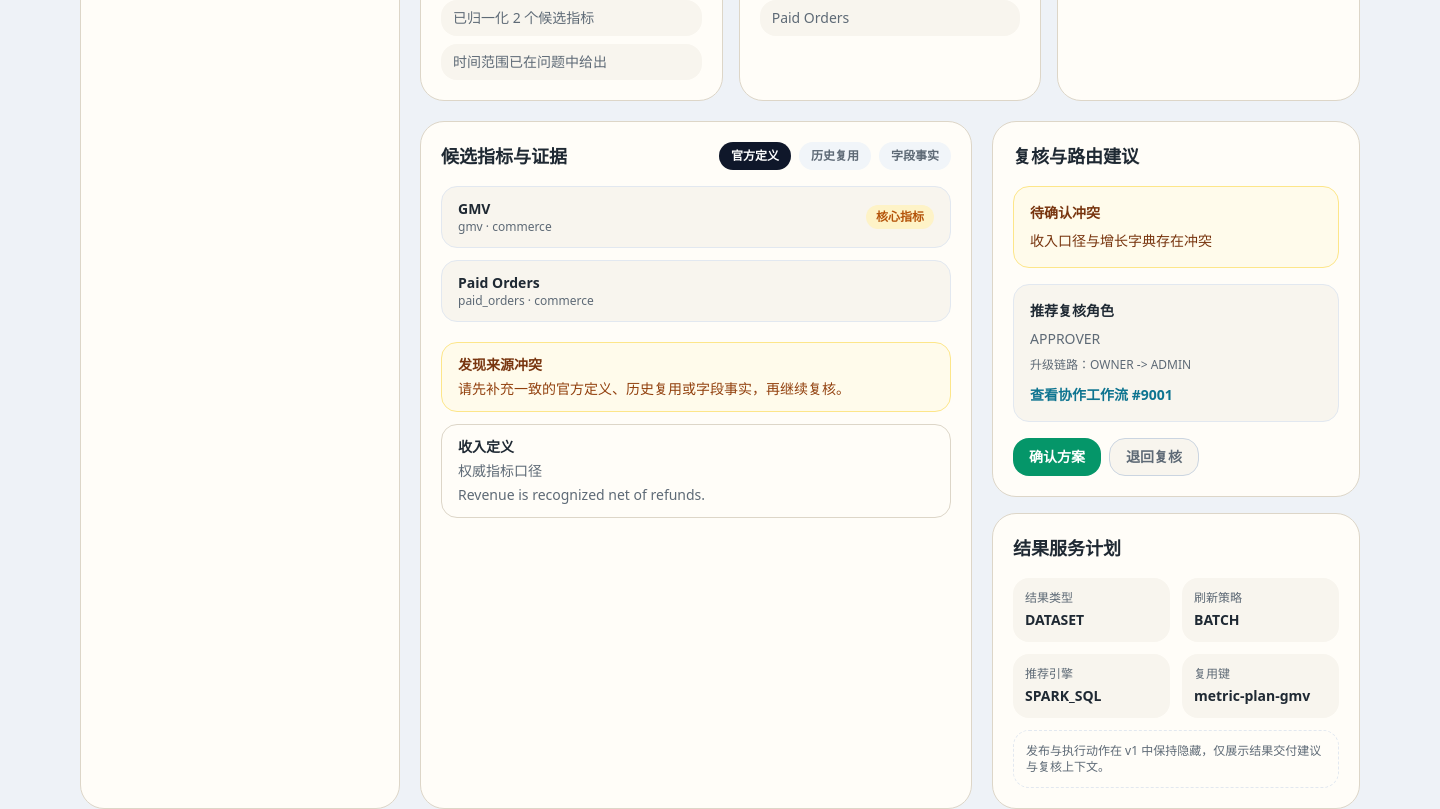
Test: MetricAnalysisPlanner page › uses GenesisApi.reviewAnalysisPlan and updates page state
The image size is (1440, 809).
(page scrolled)
Click the button "确认方案" at [1057, 457], box [1013,438,1101,476]
(page scrolled)
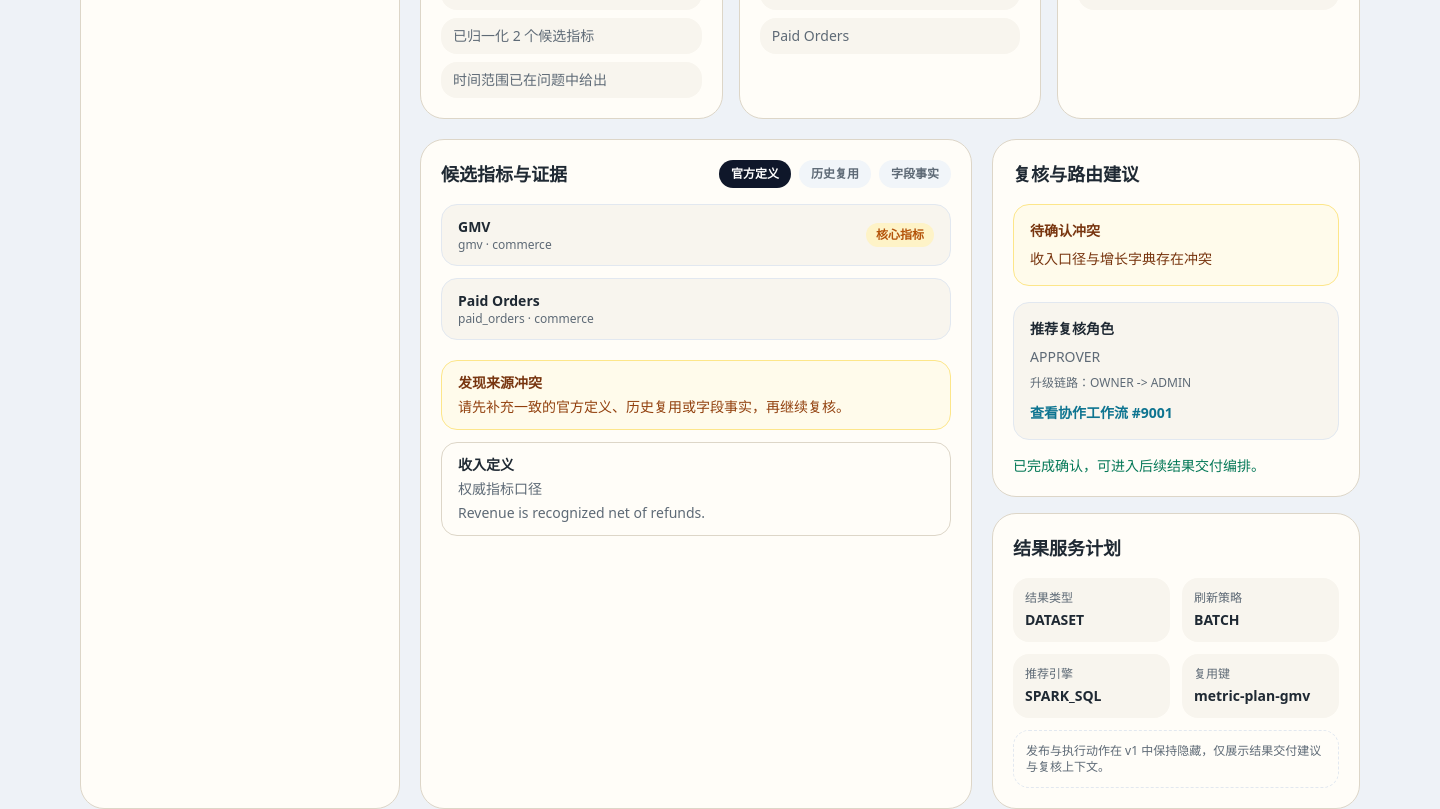
Now the text "已完成确认，可进入后续结果交付编排。" is shown, box [1013,456,1265,475]
